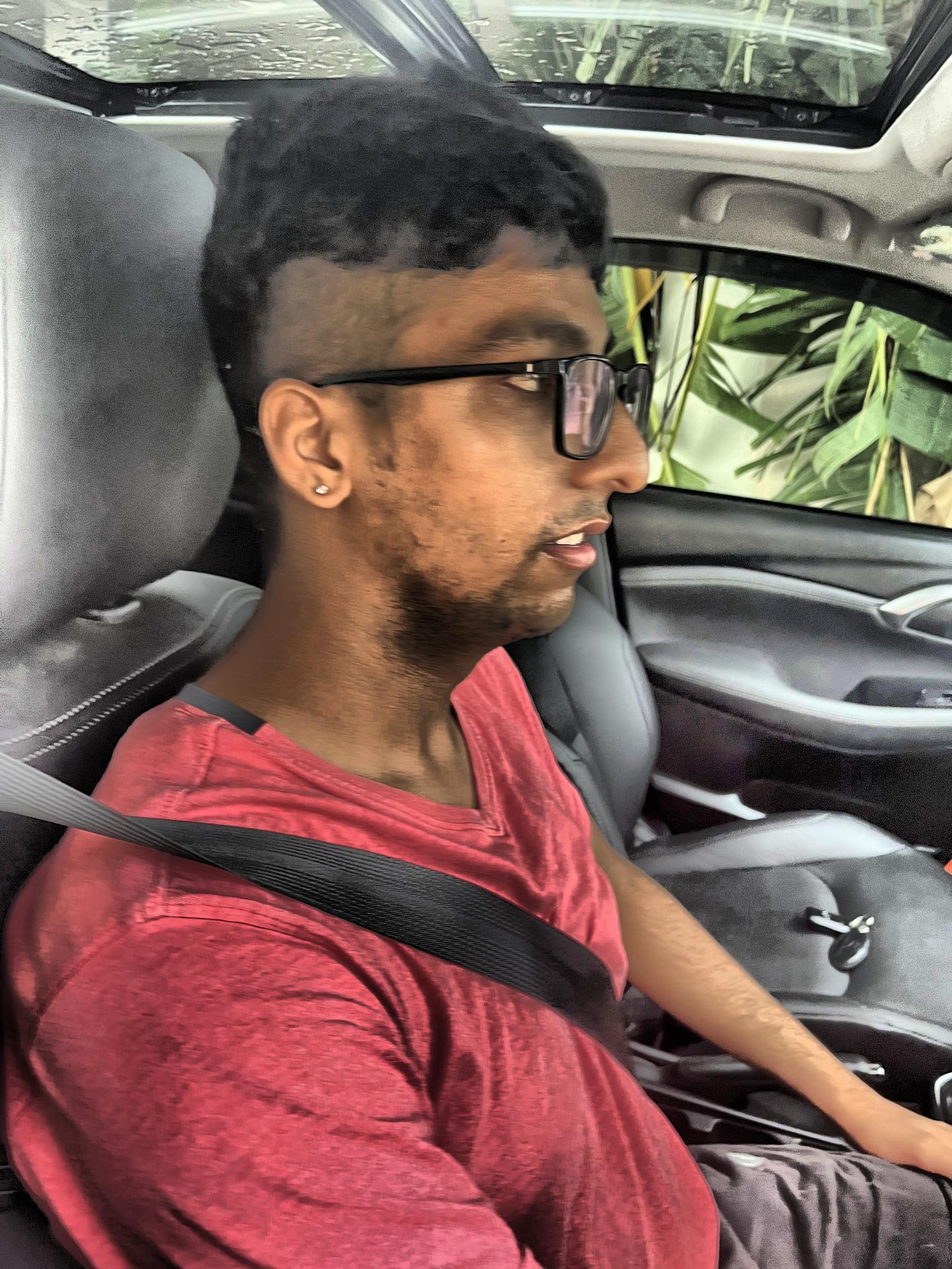seatbelt: (8, 679, 697, 1031)
